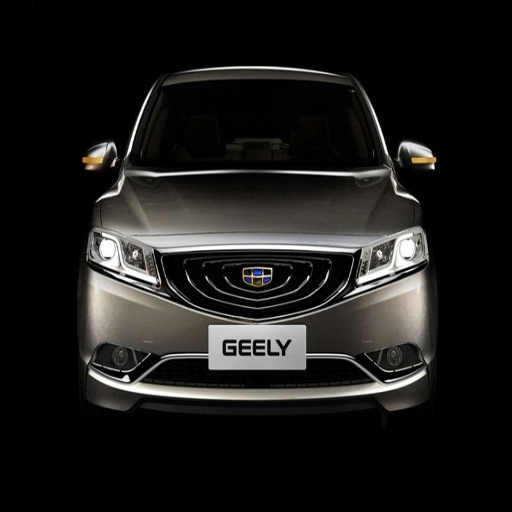front_bumper: (84, 237, 429, 410)
front_right_light: (87, 225, 164, 292)
hood: (106, 168, 411, 248)
left_mirror: (397, 142, 436, 182)
